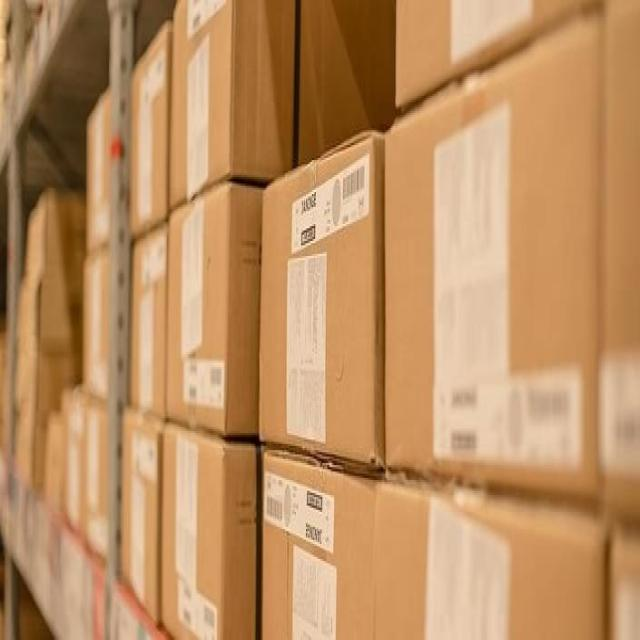box: (384, 11, 603, 508), (258, 130, 384, 476), (370, 471, 610, 640), (169, 0, 300, 213), (165, 179, 264, 439), (393, 2, 607, 117), (261, 448, 377, 640), (162, 418, 262, 640), (600, 0, 640, 525), (298, 3, 395, 163), (128, 17, 173, 239), (120, 410, 163, 629), (126, 222, 168, 420), (14, 265, 83, 367), (22, 192, 84, 275), (82, 245, 110, 401), (13, 403, 62, 489), (85, 87, 110, 254), (14, 352, 81, 414), (84, 401, 107, 567), (609, 521, 640, 640), (63, 386, 84, 544), (44, 412, 66, 512)
